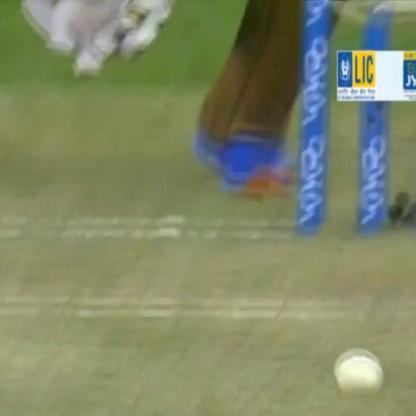ball: (335, 368, 384, 402), (327, 345, 386, 369)
